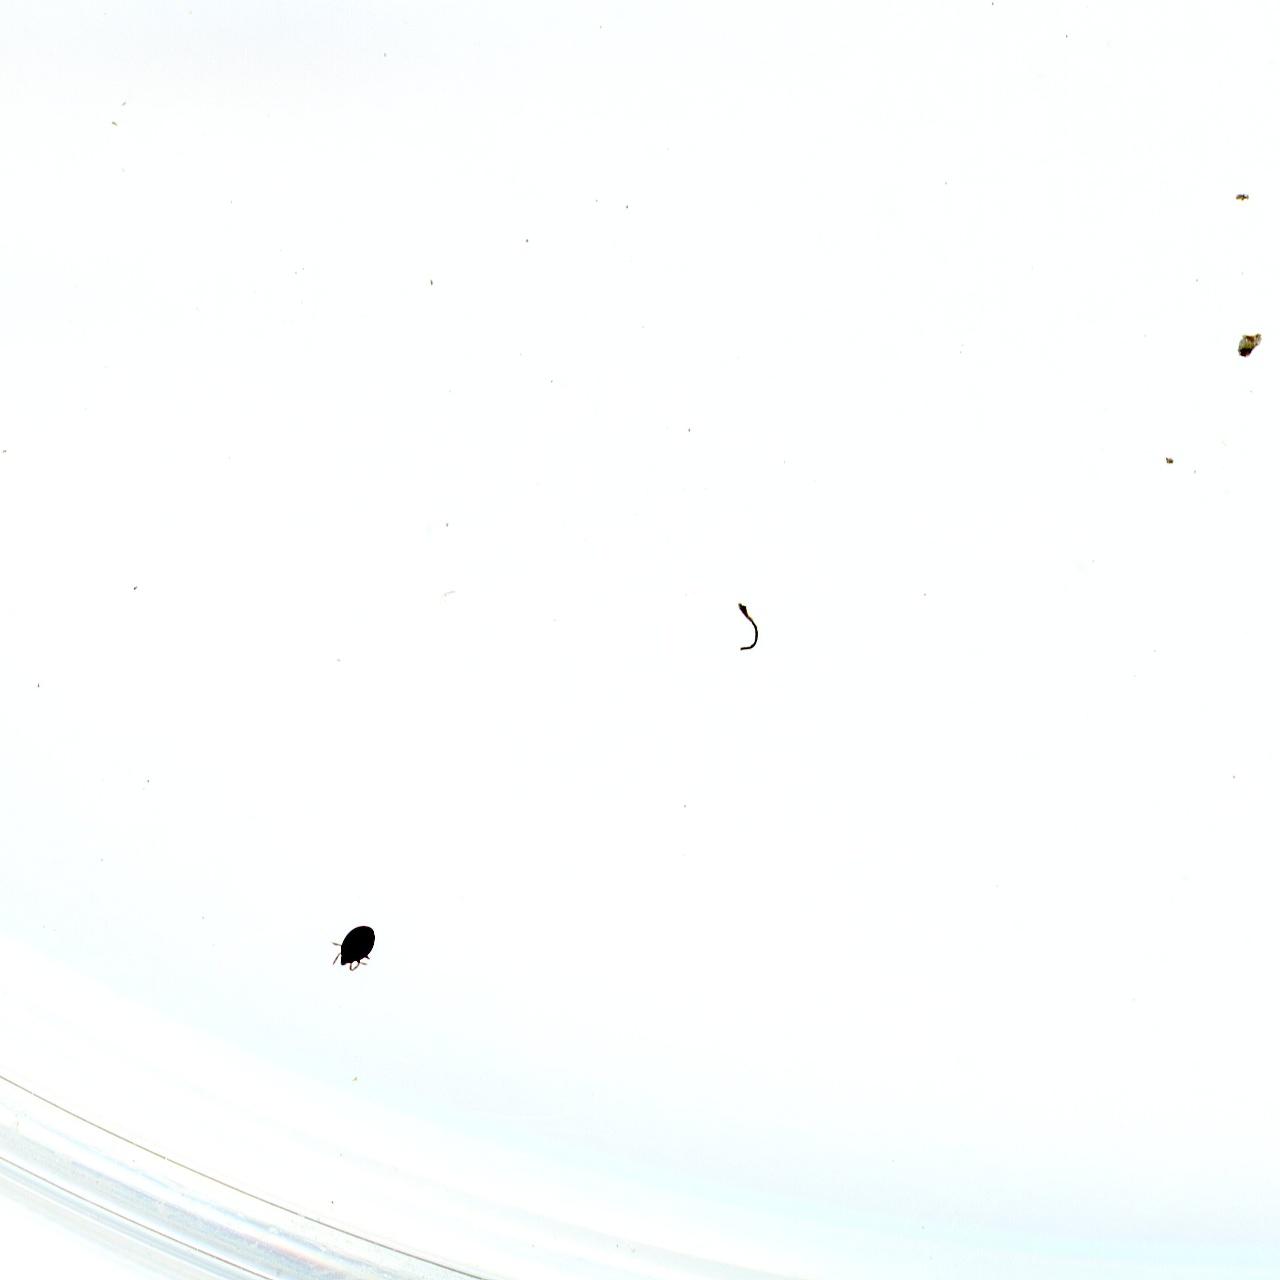arthropod: (327, 920, 377, 974)
